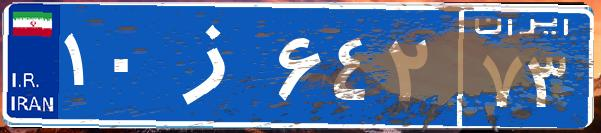0: (110, 28, 158, 105)
1: (57, 26, 110, 107)
2: (385, 28, 445, 110)
3: (525, 38, 570, 115)
4: (330, 28, 385, 110)
6: (273, 28, 330, 110)
7: (475, 38, 525, 113)
ز: (158, 15, 273, 115)
